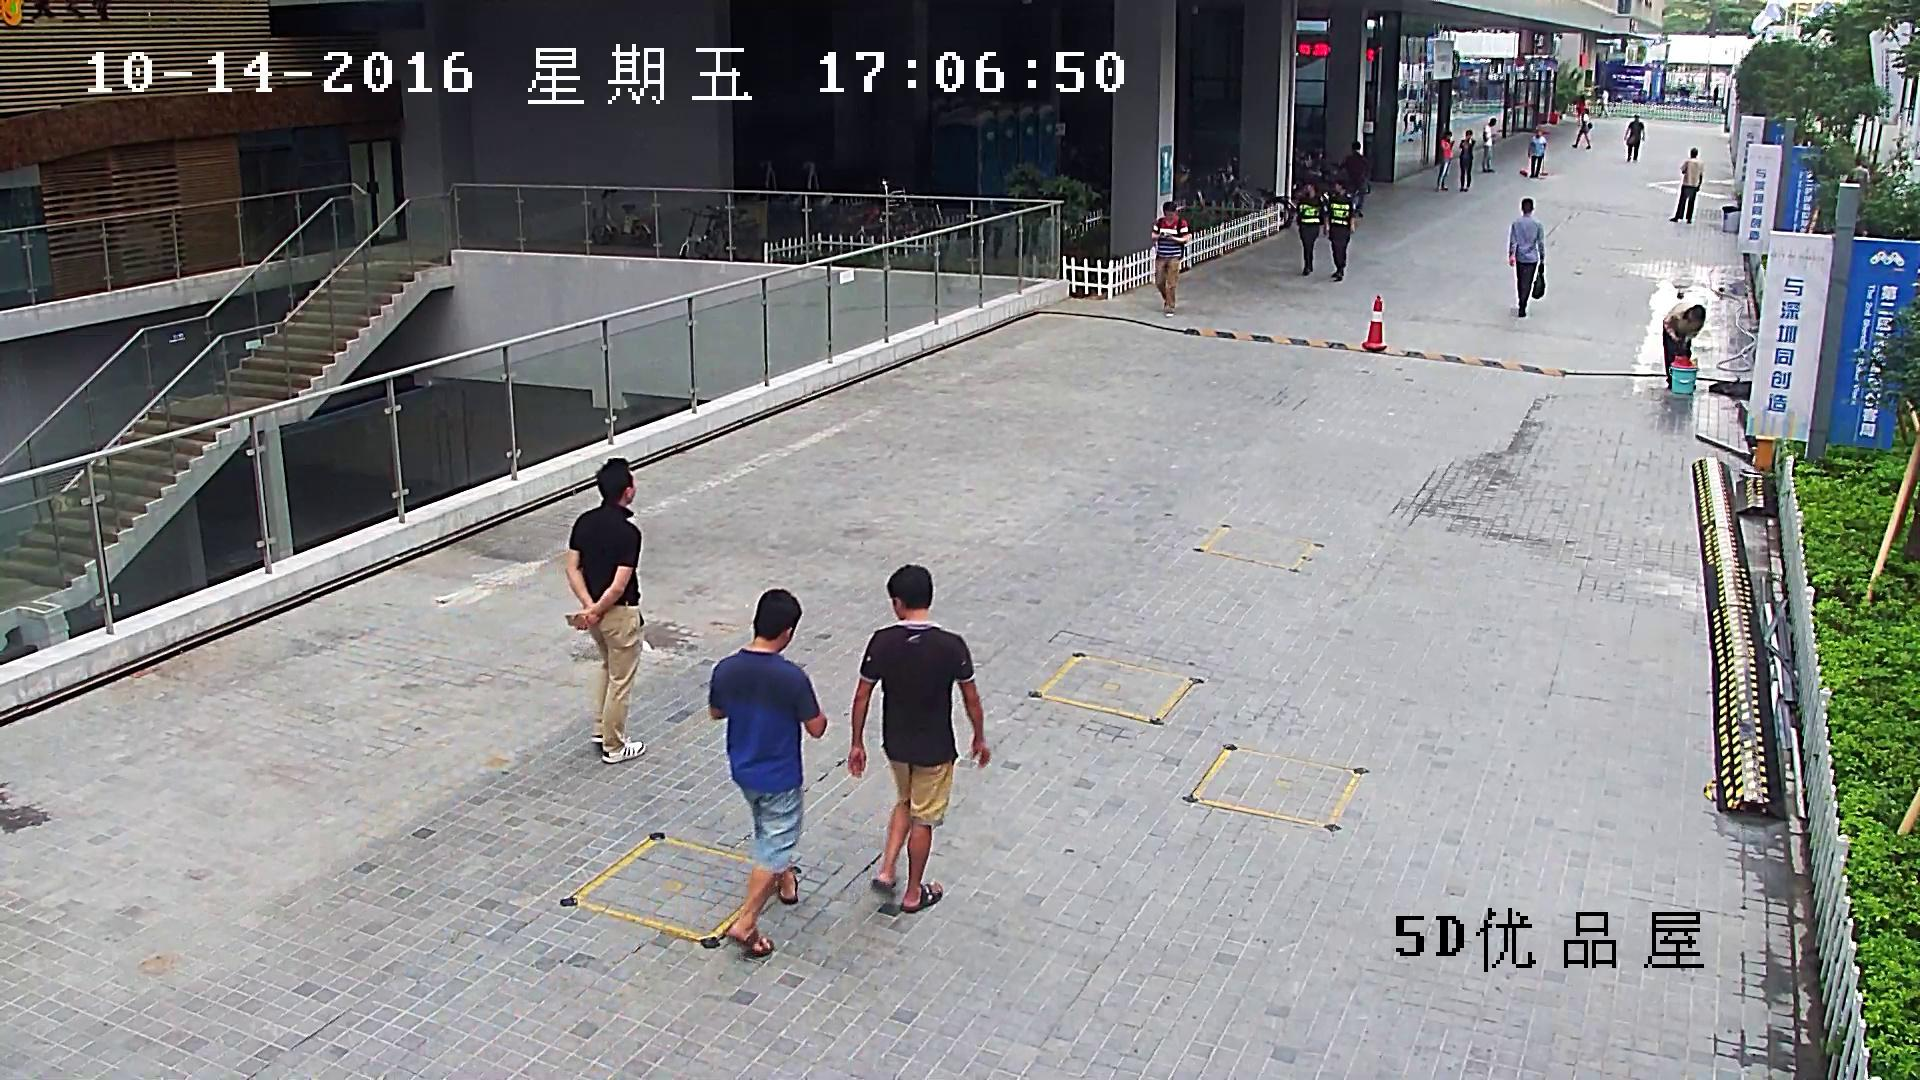person: (850, 565, 992, 916), (709, 588, 825, 957), (569, 458, 647, 763), (1149, 201, 1189, 316), (1510, 197, 1544, 318), (1663, 303, 1705, 396), (1663, 304, 1706, 388), (1295, 182, 1329, 275), (1325, 181, 1354, 282), (1670, 148, 1703, 224), (1343, 141, 1367, 217), (1519, 129, 1547, 179), (1436, 130, 1453, 191), (1625, 115, 1645, 163), (1460, 129, 1474, 192), (1529, 129, 1545, 179), (1481, 117, 1497, 171), (1573, 109, 1591, 149), (1598, 85, 1610, 117), (1576, 95, 1585, 126)
